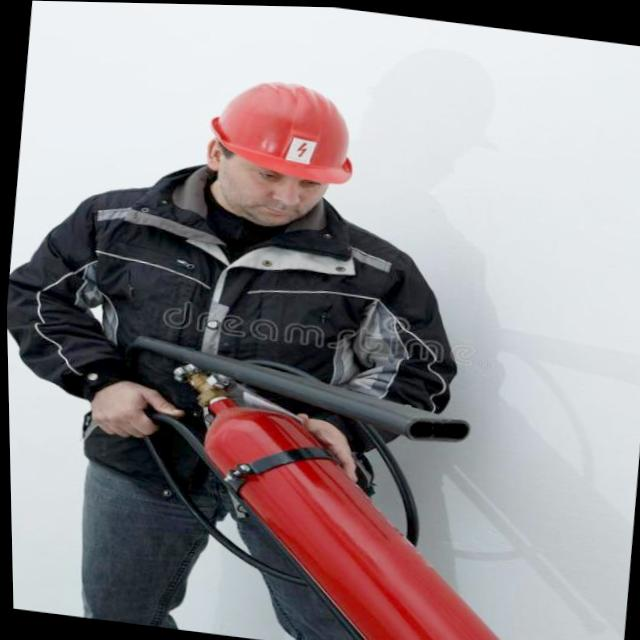FireExtinguisher: (71, 323, 597, 640)
